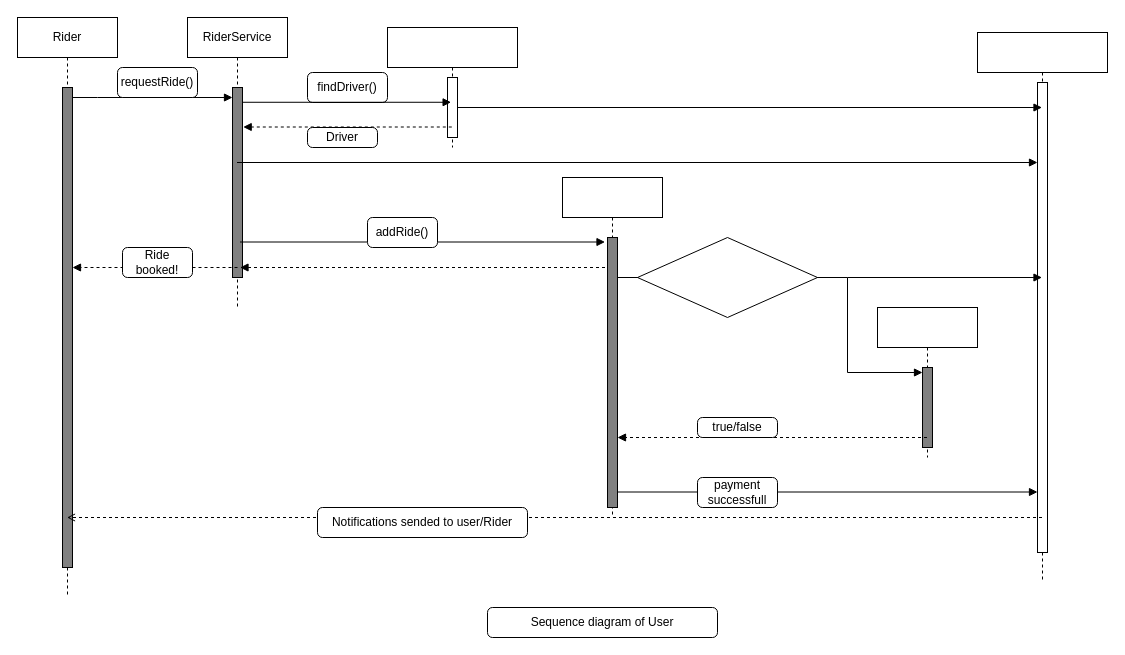
The diagram is 1125 pixels wide and 655 high, and some of its shapes have lost their labels. The box of each missing label's shape, as (x1, y1, x2, y2) in pixels:
DriverMatchingService: (386, 26, 518, 148)
if(rideStatus==completed): (636, 236, 818, 318)
NotificationSystem: (976, 32, 1108, 582)
Payment: (876, 306, 978, 458)
RideService: (562, 176, 662, 518)
